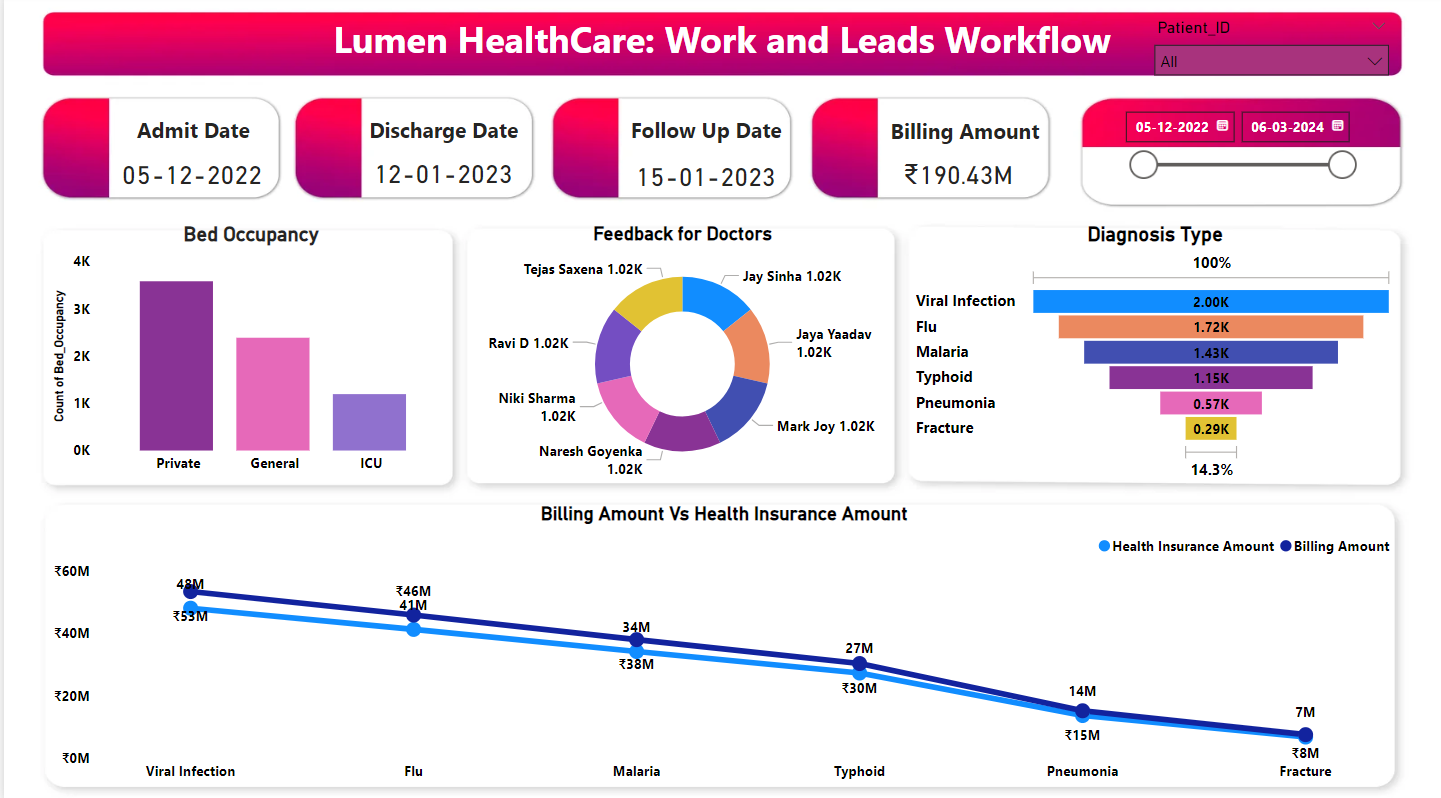

What the dashboard file says about the page in this screenshot:
{"tool":"powerbi","page":{"name":"Page 1","canvas":[1280,720],"ordinal":0},"visuals":[{"type":"textbox","box":[264.8,12.3,749.2,59],"z":0},{"type":"slicer","fields":{"Values":["Sheet1.Patient_ID"]},"box":[1014.1,15.1,229.2,56.3],"z":1000},{"type":"card","fields":{"Values":["Sheet1.Admit_Date"]},"box":[95.5,132.6,144,55.6],"z":2000},{"type":"textbox","box":[99.8,102.6,136.8,58.4],"z":3000},{"type":"textbox","box":[303.6,102.6,175.3,44.2],"z":4000},{"type":"card","fields":{"Values":["Sheet1.Discharge_Date"]},"box":[319.3,131.1,144,55.6],"z":5000},{"type":"textbox","box":[537.4,102.6,175.3,54.2],"z":6000},{"type":"card","fields":{"Values":["Sheet1.Followup Date"]},"box":[553.1,134,144,55.6],"z":7000},{"type":"card","fields":{"Values":["Sheet1.Billing Amount"]},"box":[778.3,132.6,144,55.6],"z":8000},{"type":"textbox","box":[778.3,104.1,155.4,49.9],"z":9000},{"type":"slicer","fields":{"Values":["Sheet1.Admit_Date"]},"box":[986.6,93.3,226.4,81],"z":10000},{"type":"columnChart","title":" Bed Occupancy","fields":{"Category":["Sheet1.Bed_Occupancy"],"Y":["Sheet1.Bed_Occupancy"]},"box":[38.4,203.1,362.3,233.3],"z":11000},{"type":"donutChart","title":"Feedback for Doctors","fields":{"Category":["Sheet1.Doctor"],"Y":["Sheet1.Doctor"]},"box":[415.8,203.1,376,233.3],"z":12000},{"type":"funnel","title":"Diagnosis Type","fields":{"Category":["Sheet1.Diagnosis"],"Y":["Sheet1.Diagnosis"]},"box":[806.9,203.1,436.4,233.3],"z":13000},{"type":"lineChart","title":"Billing Amount Vs Health Insurance Amount","fields":{"Y":["Sheet1.Health Insurance Amount","Sheet1.Billing Amount"],"Category":["Sheet1.Diagnosis"]},"box":[38.4,451.5,1204.8,258],"z":13001}]}

Visuals, with their boxes in screenshot pixels (x1, y1, x2, y2), scaled from the page's 1280x720 canvas onto the 1441x798 screenshot:
textbox: <region>298, 14, 1142, 79</region>
slicer - Sheet1.Patient_ID: <region>1142, 17, 1400, 79</region>
card - Sheet1.Admit_Date: <region>108, 147, 270, 209</region>
textbox: <region>112, 114, 266, 178</region>
textbox: <region>342, 114, 539, 163</region>
card - Sheet1.Discharge_Date: <region>359, 145, 522, 207</region>
textbox: <region>605, 114, 802, 174</region>
card - Sheet1.Followup Date: <region>623, 149, 785, 210</region>
card - Sheet1.Billing Amount: <region>876, 147, 1038, 209</region>
textbox: <region>876, 115, 1051, 171</region>
slicer - Sheet1.Admit_Date: <region>1111, 103, 1366, 193</region>
" Bed Occupancy" columnChart: <region>43, 225, 451, 484</region>
"Feedback for Doctors" donutChart: <region>468, 225, 891, 484</region>
"Diagnosis Type" funnel: <region>908, 225, 1400, 484</region>
"Billing Amount Vs Health Insurance Amount" lineChart: <region>43, 500, 1400, 786</region>
